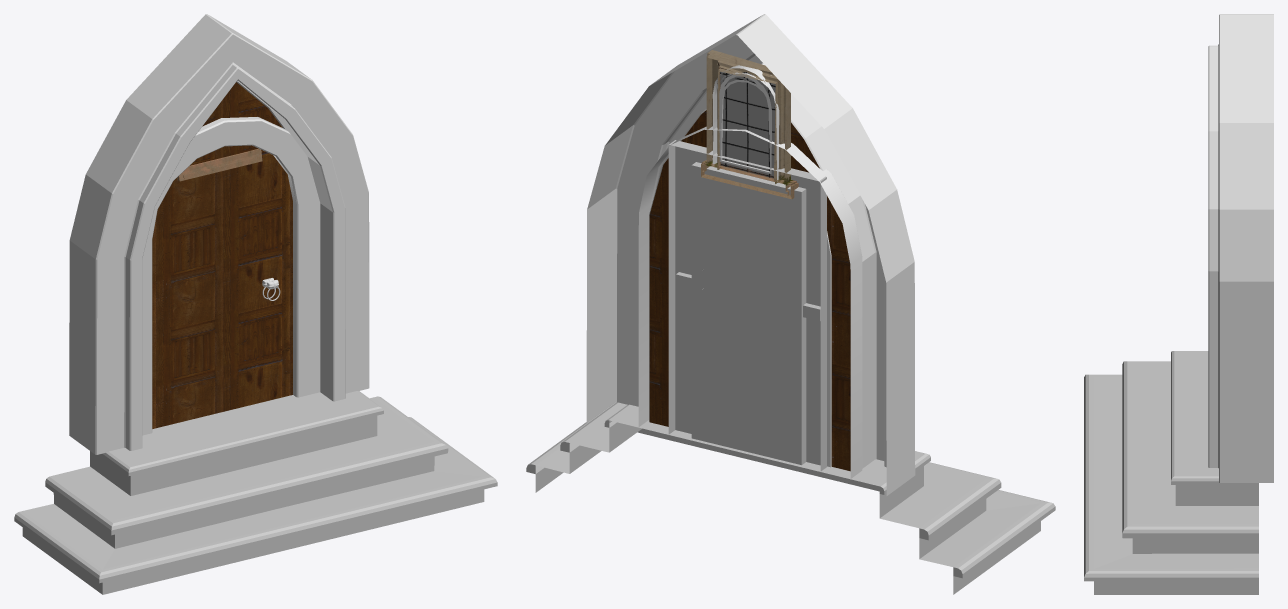
The model's file is DoorWindowsSamples.fbx.
3 renders of one model, left to right at view 1: azimuth 30°, elevation 25°; view 2: azimuth 150°, elevation 25°; view 3: azimuth 270°, elevation 25°, orthographic. The views are drawn at different scales.
Visible parts, largest first — view 1: Door1, Door3.001, Door2; view 2: Door3.001, Door1, Door2, Window2, Window4, Window1, Window5, Window3; view 3: Door3.001, Door1.
Boxes of the visible parts, <box> form: Door1: <box>69,14,369,454</box>; Door3.001: <box>14,391,497,594</box>; Door2: <box>142,117,320,435</box>; Door3.001: <box>526,140,1055,594</box>; Door1: <box>586,14,915,495</box>; Door2: <box>638,126,862,478</box>; Window2: <box>702,72,779,181</box>; Window4: <box>702,50,798,199</box>; Window1: <box>702,65,790,195</box>; Window5: <box>701,54,797,199</box>; Window3: <box>702,56,796,197</box>; Door3.001: <box>1084,351,1258,594</box>; Door1: <box>1208,14,1273,482</box>.
Size of the model in its own units: 340 by 383 by 136.
